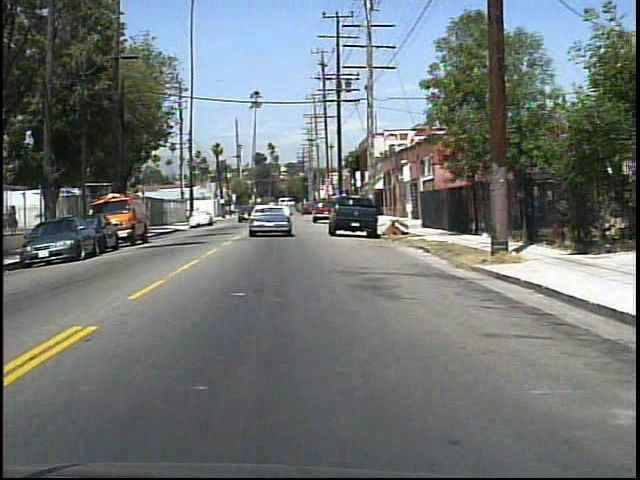person: (7, 203, 20, 235)
